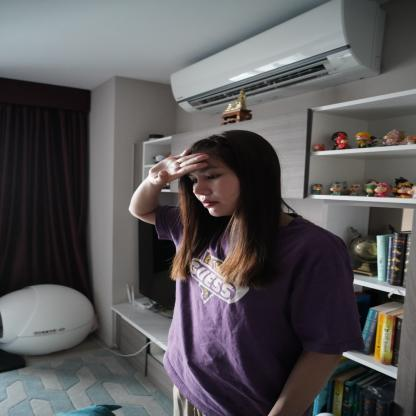Sick: (140, 149, 224, 190)
